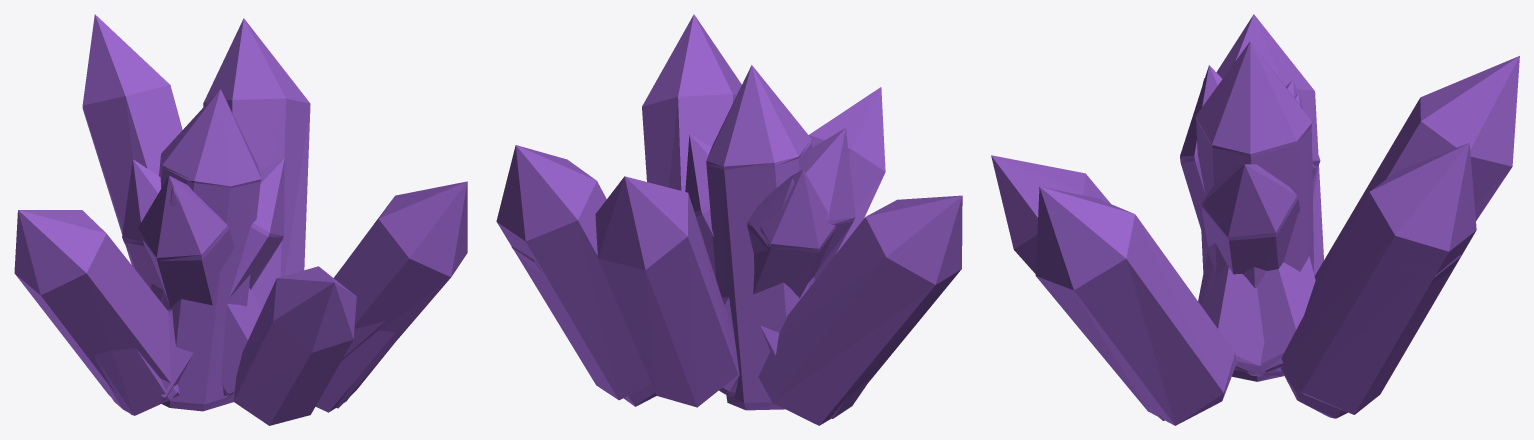
The model's file is env_crystal.glb.
3 views of the same model, side by side, from view 1: azimuth 30°, elevation 25°; view 2: azimuth 150°, elevation 25°; view 3: azimuth 270°, elevation 25° (orthographic). The views are drawn at different scales.
Visible parts, largest first — view 1: Env_CrystalGem1, Env_Crystal0, Env_Crystal1, Env_CrystalGem0, Env_Crystal4, Env_Crystal5; view 2: Env_CrystalGem1, Env_Crystal0, Env_Crystal4, Env_Crystal1, Env_Crystal5, Env_Crystal3, Env_CrystalGem0; view 3: Env_CrystalGem1, Env_Crystal0, Env_Crystal5, Env_Crystal1, Env_Crystal4, Env_CrystalGem0.
Boxes of the visible parts, x1,y1,x2,y2 form: Env_CrystalGem1: (14, 14, 467, 425); Env_Crystal0: (150, 89, 261, 411); Env_Crystal1: (137, 175, 234, 307); Env_CrystalGem0: (94, 321, 394, 415); Env_Crystal4: (122, 159, 261, 395); Env_Crystal5: (158, 158, 284, 403); Env_CrystalGem1: (496, 14, 962, 425); Env_Crystal0: (706, 65, 815, 410); Env_Crystal4: (753, 170, 835, 298); Env_Crystal1: (715, 128, 855, 396); Env_Crystal5: (685, 134, 779, 355); Env_Crystal3: (747, 179, 793, 253); Env_CrystalGem0: (511, 246, 872, 418); Env_CrystalGem1: (991, 14, 1519, 425); Env_Crystal0: (1195, 41, 1314, 381); Env_Crystal5: (1201, 164, 1299, 274); Env_Crystal1: (1180, 65, 1315, 375); Env_Crystal4: (1198, 79, 1320, 376); Env_CrystalGem0: (1156, 254, 1460, 420).
Size of the model in its own units: 1.13 by 0.8963 by 1.29.
